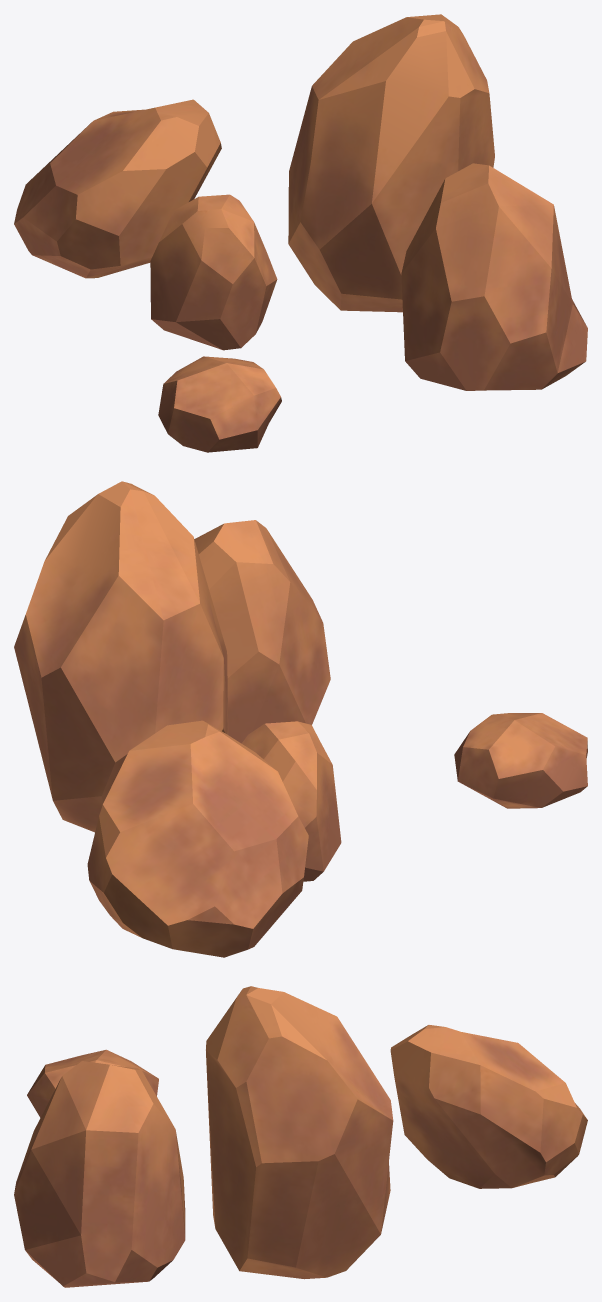
Rendered from rocks_desert_lowpoly.glb.
3 views of the same model, one above another, from view 1: azimuth 30°, elevation 25°; view 2: azimuth 150°, elevation 25°; view 3: azimuth 270°, elevation 25° (orthographic). The views are drawn at different scales.
Visible parts, largest first — view 1: Rock1, Rock2, Rock3, Rock4, Rock5; view 2: Rock1, Rock3, Rock2, Rock5, Rock4; view 3: Rock1, Rock2, Rock3, Rock5.
Part boxes in pixels (x1,y1,x2,y2): Rock1: [288, 14, 494, 312]; Rock2: [401, 163, 587, 390]; Rock3: [14, 99, 221, 278]; Rock4: [150, 194, 277, 350]; Rock5: [158, 356, 281, 452]; Rock1: [14, 481, 228, 832]; Rock3: [87, 720, 308, 957]; Rock2: [194, 520, 330, 743]; Rock5: [454, 713, 587, 808]; Rock4: [242, 721, 341, 881]; Rock1: [206, 986, 393, 1279]; Rock2: [14, 1061, 185, 1287]; Rock3: [390, 1025, 587, 1188]; Rock5: [27, 1049, 158, 1117].
Size of the model in its own units: 420 by 286 by 515.
Materials: 1 (1 with a texture image).
